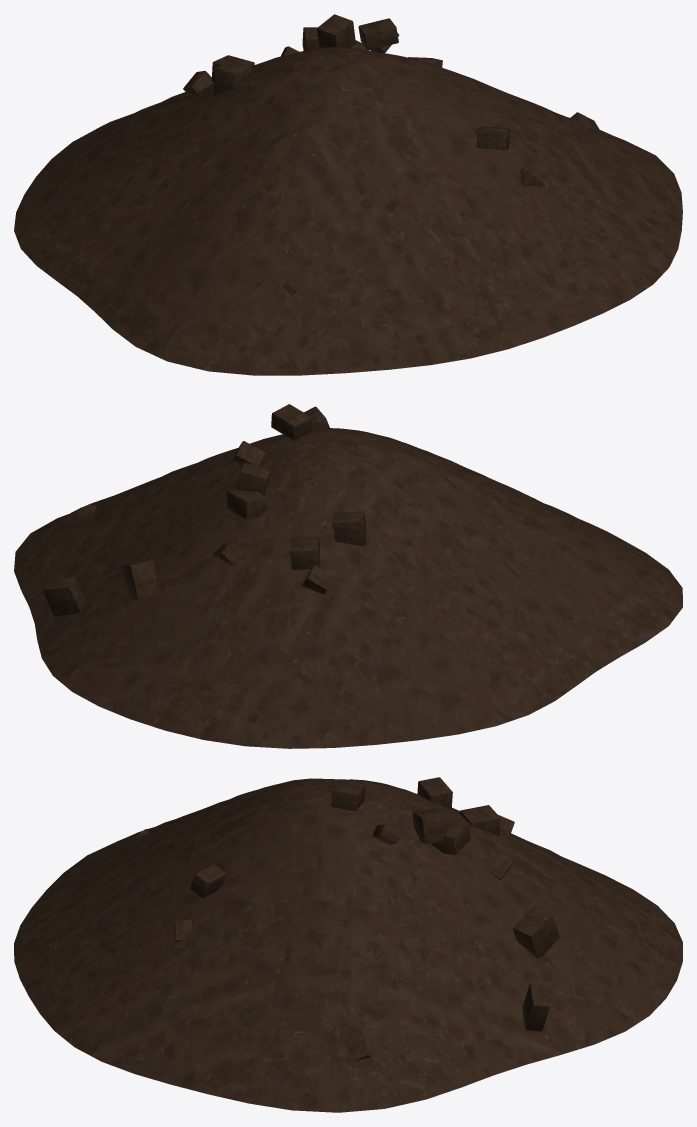
File: TER-SOL-001_lod1.glb
3 views of the same model, one above another, from view 1: azimuth 30°, elevation 25°; view 2: azimuth 150°, elevation 25°; view 3: azimuth 270°, elevation 25° (orthographic). The views are drawn at different scales.
Visible parts, largest first — view 1: TER-SOL-001_monte, TER-SOL-001_caco2, TER-SOL-001_caco8, TER-SOL-001_caco10, TER-SOL-001_caco13; view 2: TER-SOL-001_monte, TER-SOL-001_caco4, TER-SOL-001_caco7, TER-SOL-001_caco10, TER-SOL-001_caco8, TER-SOL-001_caco6, TER-SOL-001_caco5, TER-SOL-001_caco2, TER-SOL-001_caco0, TER-SOL-001_caco3; view 3: TER-SOL-001_monte, TER-SOL-001_caco7, TER-SOL-001_caco4, TER-SOL-001_caco2, TER-SOL-001_caco6, TER-SOL-001_caco8, TER-SOL-001_caco5, TER-SOL-001_caco13, TER-SOL-001_caco10, TER-SOL-001_caco9.
Boxes of the visible parts, x1=… form: TER-SOL-001_monte: x1=14, y1=47, x2=682, y2=375; TER-SOL-001_caco2: x1=316, y1=14, x2=355, y2=48; TER-SOL-001_caco8: x1=358, y1=18, x2=398, y2=50; TER-SOL-001_caco10: x1=213, y1=61, x2=252, y2=95; TER-SOL-001_caco13: x1=476, y1=126, x2=509, y2=149; TER-SOL-001_monte: x1=14, y1=427, x2=682, y2=748; TER-SOL-001_caco4: x1=42, y1=577, x2=85, y2=616; TER-SOL-001_caco7: x1=121, y1=560, x2=159, y2=599; TER-SOL-001_caco10: x1=332, y1=511, x2=365, y2=545; TER-SOL-001_caco8: x1=271, y1=404, x2=311, y2=440; TER-SOL-001_caco6: x1=227, y1=489, x2=267, y2=519; TER-SOL-001_caco5: x1=290, y1=536, x2=319, y2=569; TER-SOL-001_caco2: x1=236, y1=462, x2=271, y2=495; TER-SOL-001_caco0: x1=302, y1=565, x2=334, y2=594; TER-SOL-001_caco3: x1=233, y1=441, x2=265, y2=465; TER-SOL-001_monte: x1=14, y1=778, x2=682, y2=1112; TER-SOL-001_caco7: x1=513, y1=906, x2=559, y2=958; TER-SOL-001_caco4: x1=522, y1=983, x2=550, y2=1031; TER-SOL-001_caco2: x1=412, y1=808, x2=447, y2=844; TER-SOL-001_caco6: x1=431, y1=819, x2=470, y2=855; TER-SOL-001_caco8: x1=331, y1=781, x2=365, y2=811; TER-SOL-001_caco5: x1=459, y1=805, x2=500, y2=835; TER-SOL-001_caco13: x1=190, y1=864, x2=226, y2=898; TER-SOL-001_caco10: x1=417, y1=777, x2=452, y2=809; TER-SOL-001_caco9: x1=339, y1=1025, x2=370, y2=1060.
Bounding box in the file's own units: 1.81 × 0.5729 × 1.78.
Materials: 1 (1 with a texture image).
